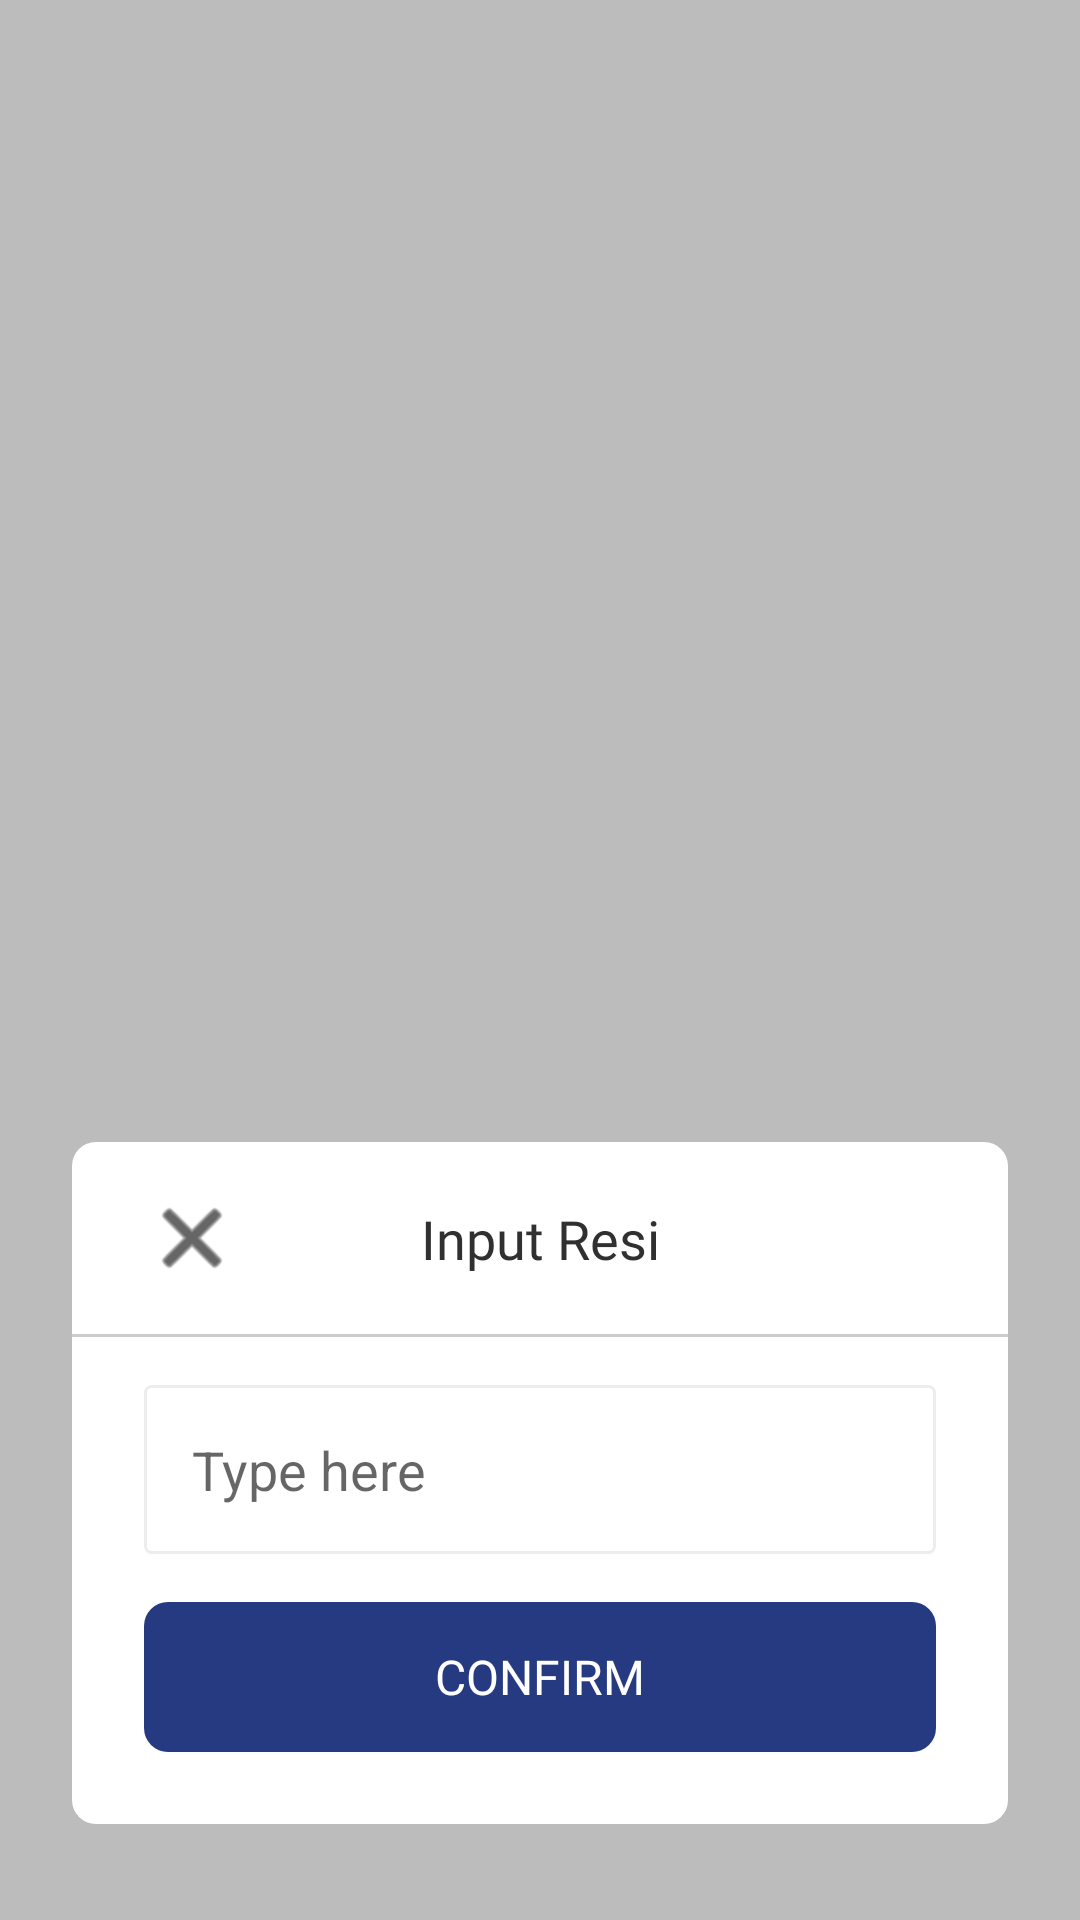

Icon bounding boxes for this 1080 × 1920 phone screenshot, format Rect(x1, y1, x2, y2):
close clear cancel: Rect(162, 1208, 222, 1268)
